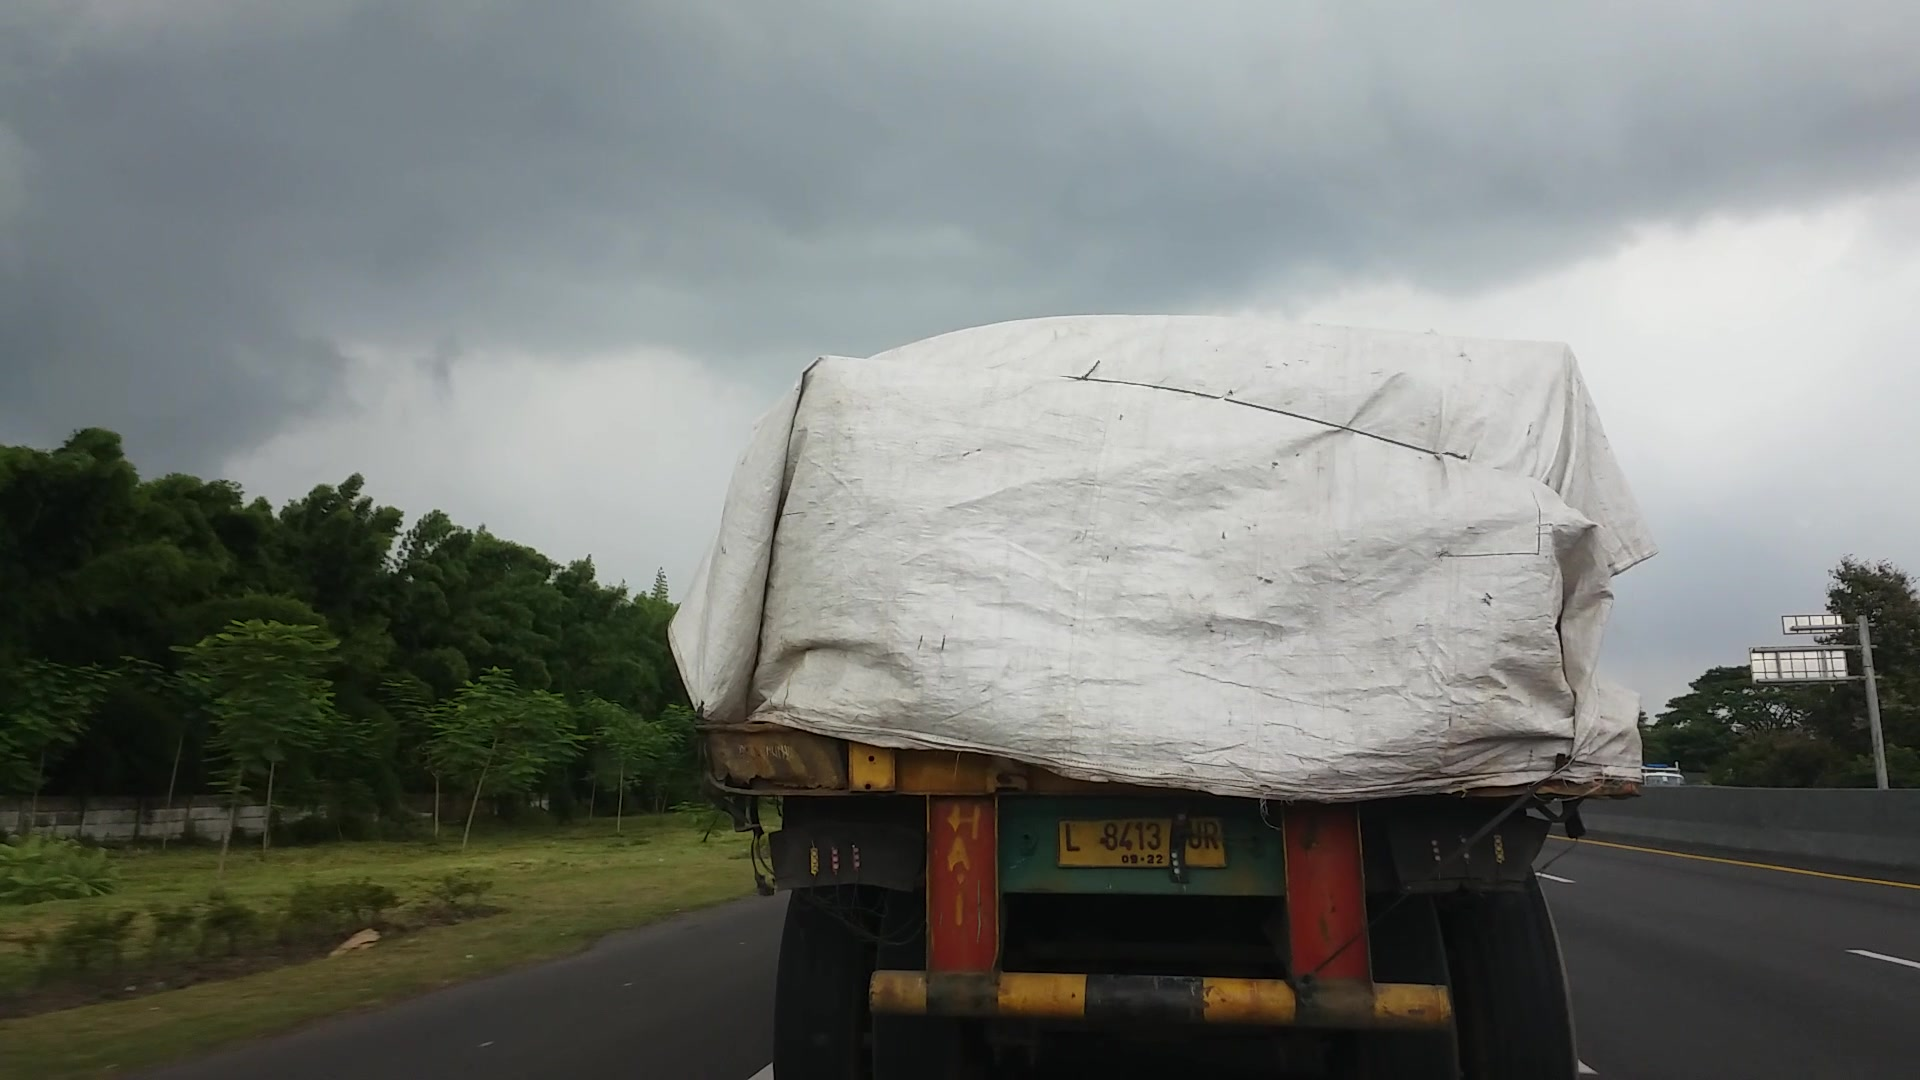plate_positive: (1058, 815, 1229, 870)
